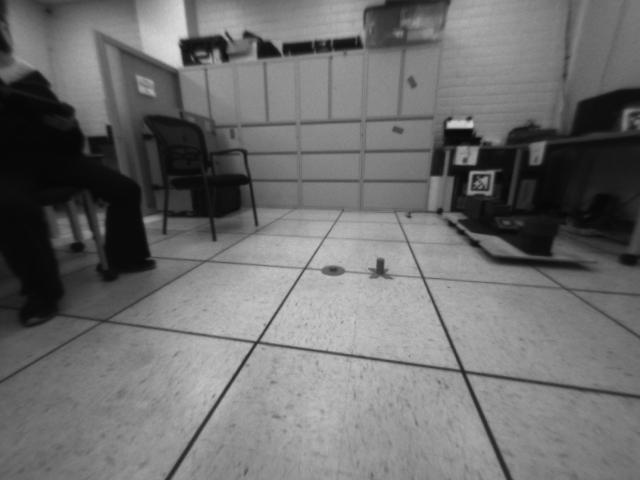X: (367, 256, 394, 281)
